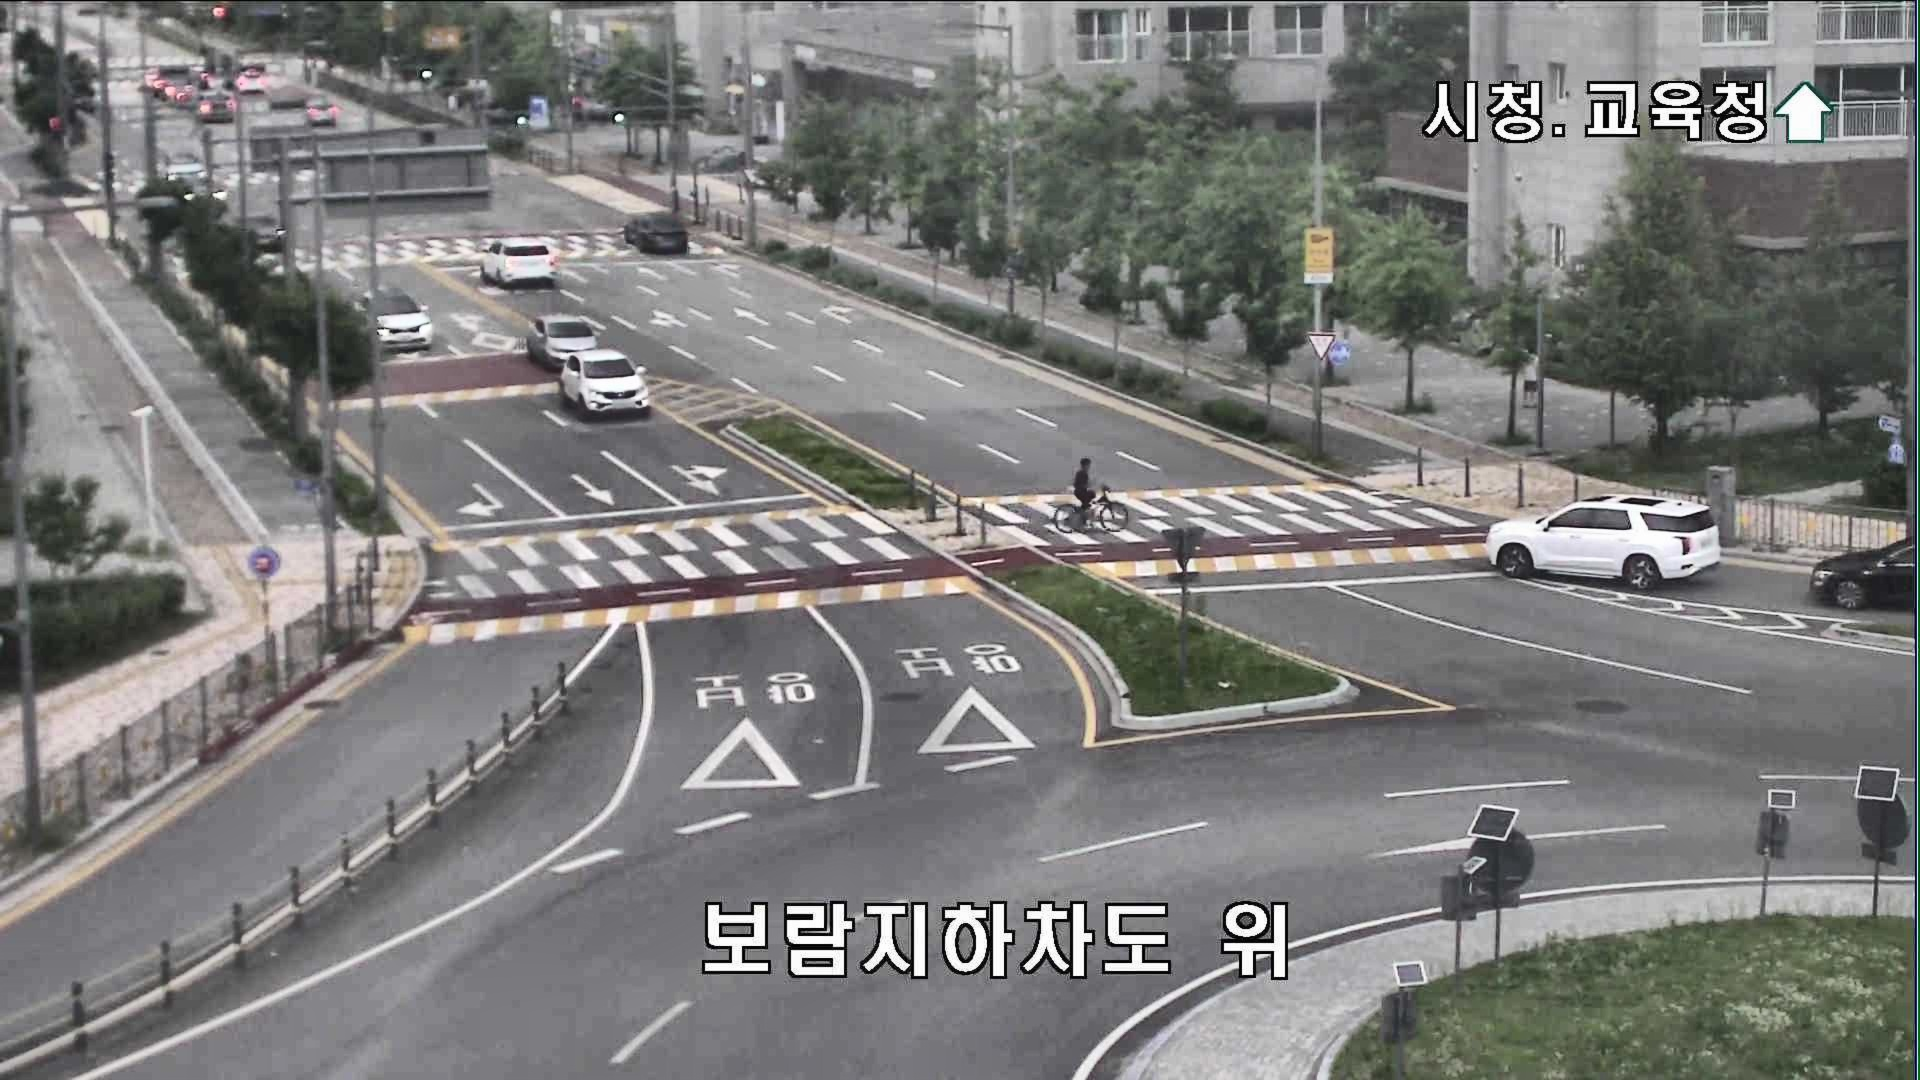crosswalk: (1071, 456, 1098, 516)
sidewalk: (1518, 345, 1540, 410)
